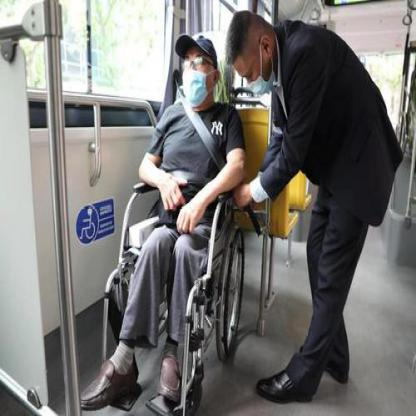wheelchair: (97, 30, 247, 415)
